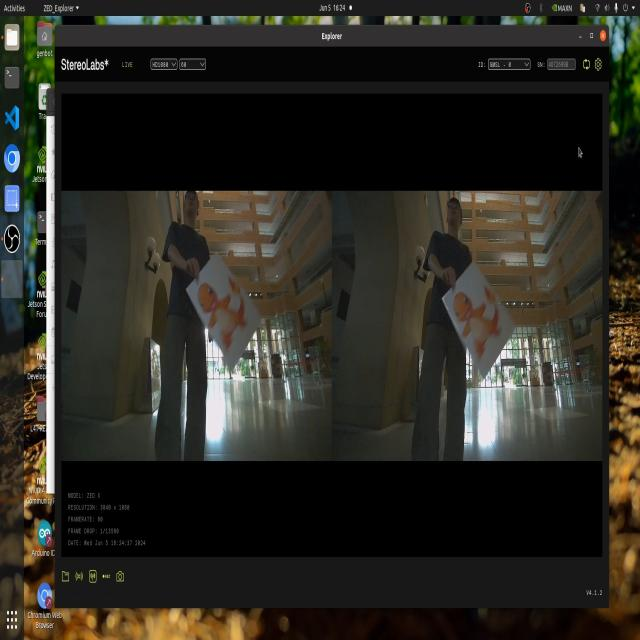red: (196, 273, 253, 341), (454, 278, 494, 348)
